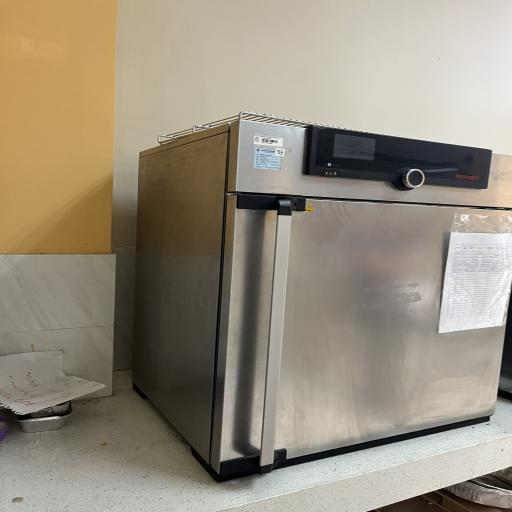Memmert_Unidad2: (128, 105, 512, 485)
